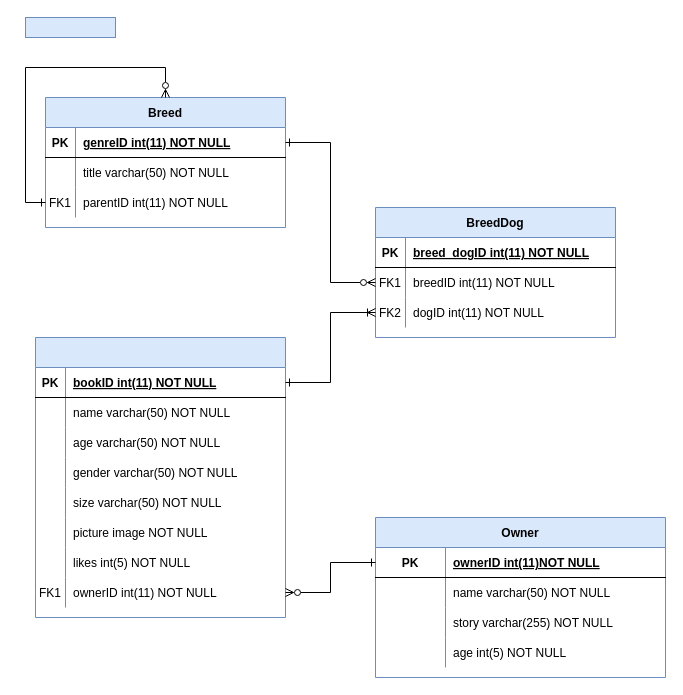
This 683x695 diagram has some shape labels left out. Each missing label, with the box of its shape:
Dog: (34, 336, 286, 618)
DogTag - ERD: (24, 16, 116, 38)
